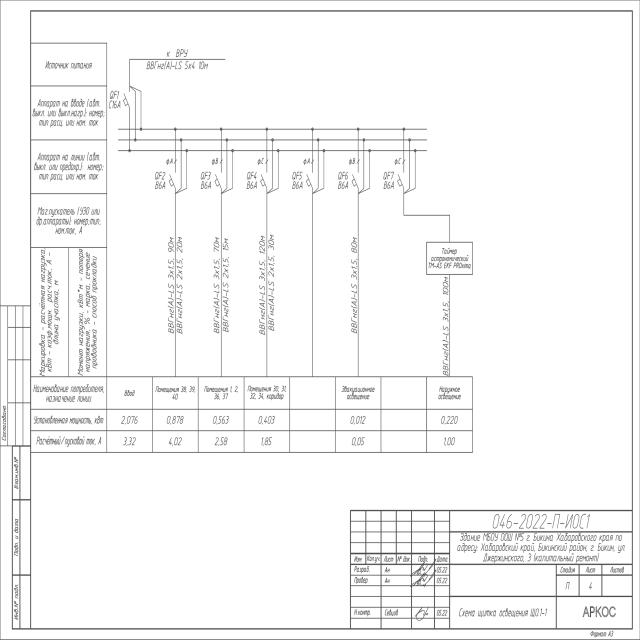-: (428, 246, 471, 270), (244, 180, 260, 192), (152, 180, 168, 192), (290, 180, 305, 192), (198, 180, 212, 192), (382, 179, 396, 191), (336, 179, 350, 191), (108, 99, 122, 110), (347, 156, 356, 166), (210, 156, 219, 166), (256, 156, 265, 166), (166, 158, 174, 168), (303, 156, 311, 166), (394, 156, 402, 166)
QF: (122, 91, 132, 109), (212, 171, 222, 189), (305, 170, 315, 188), (396, 169, 405, 188), (168, 170, 177, 188), (351, 170, 360, 188), (260, 170, 269, 188)
Timer: (425, 240, 474, 277)
